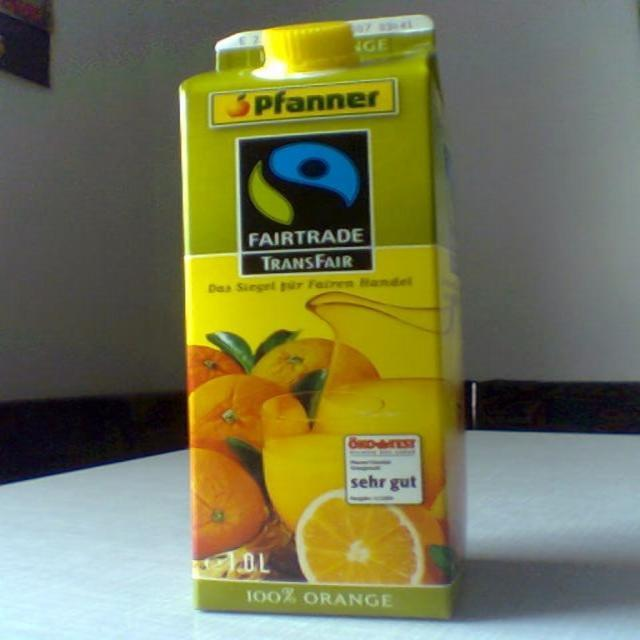Orange: (292, 489, 440, 584), (188, 370, 296, 447), (185, 448, 263, 553), (266, 345, 370, 401), (175, 338, 237, 387)
